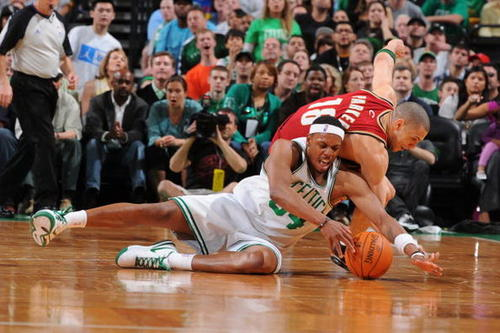10+: (1, 2, 500, 281)
down: (25, 111, 450, 280)
